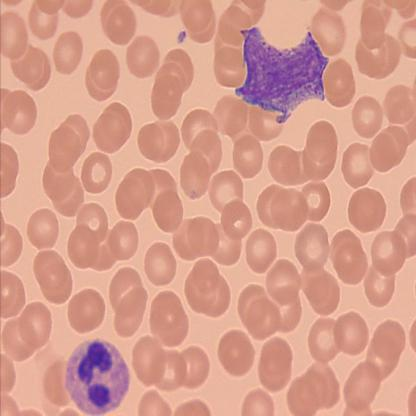Myelocyte: (234, 26, 329, 123)
